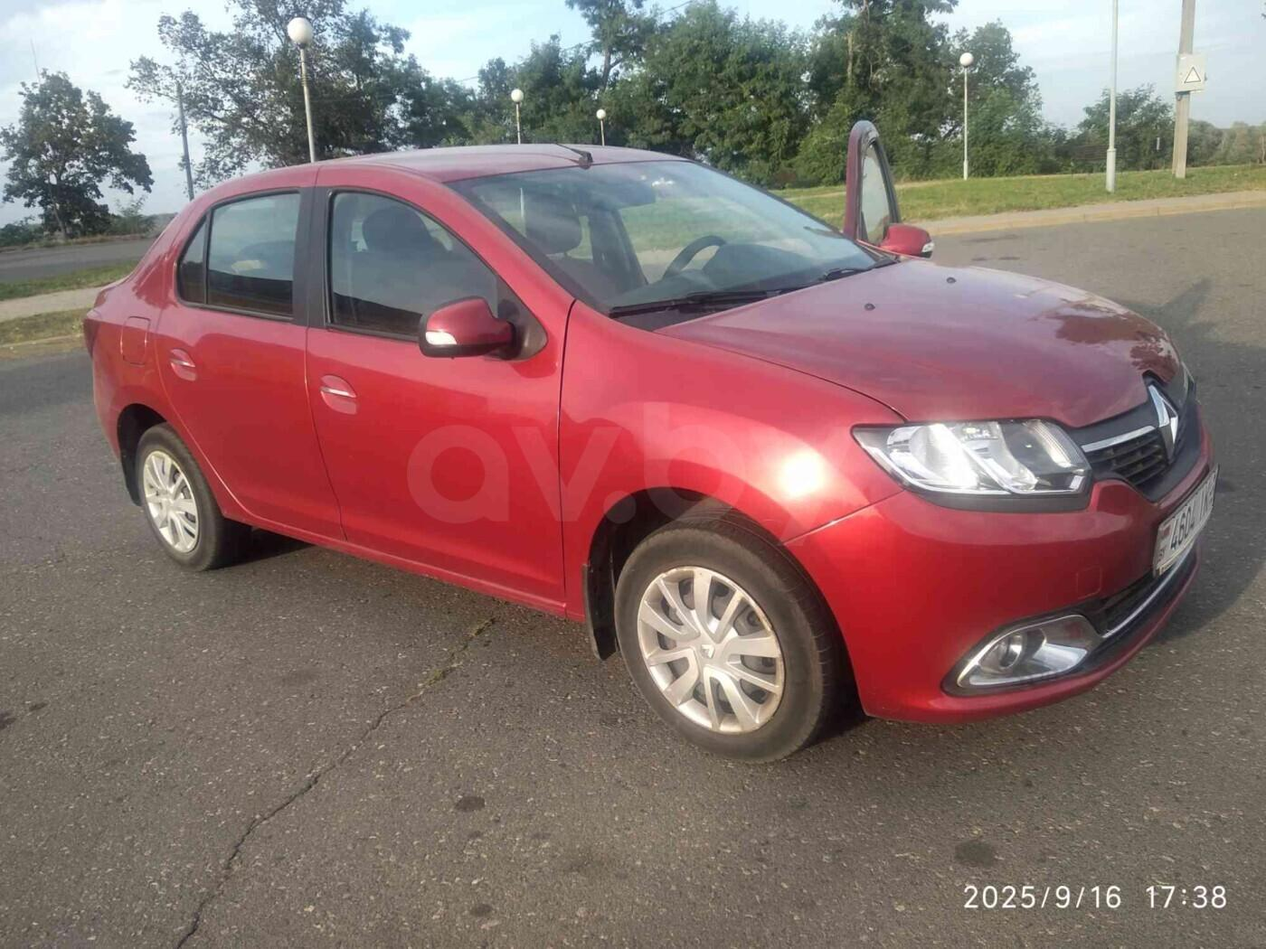Logan_2013-2018: (80, 137, 1225, 766)
